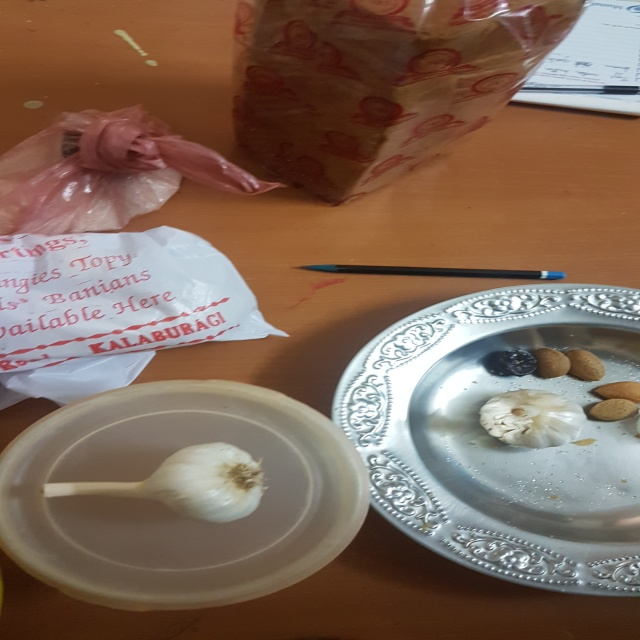garlic: (42, 435, 278, 531)
